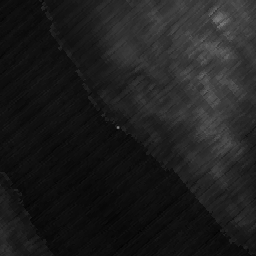Target: (114, 124, 121, 130)
